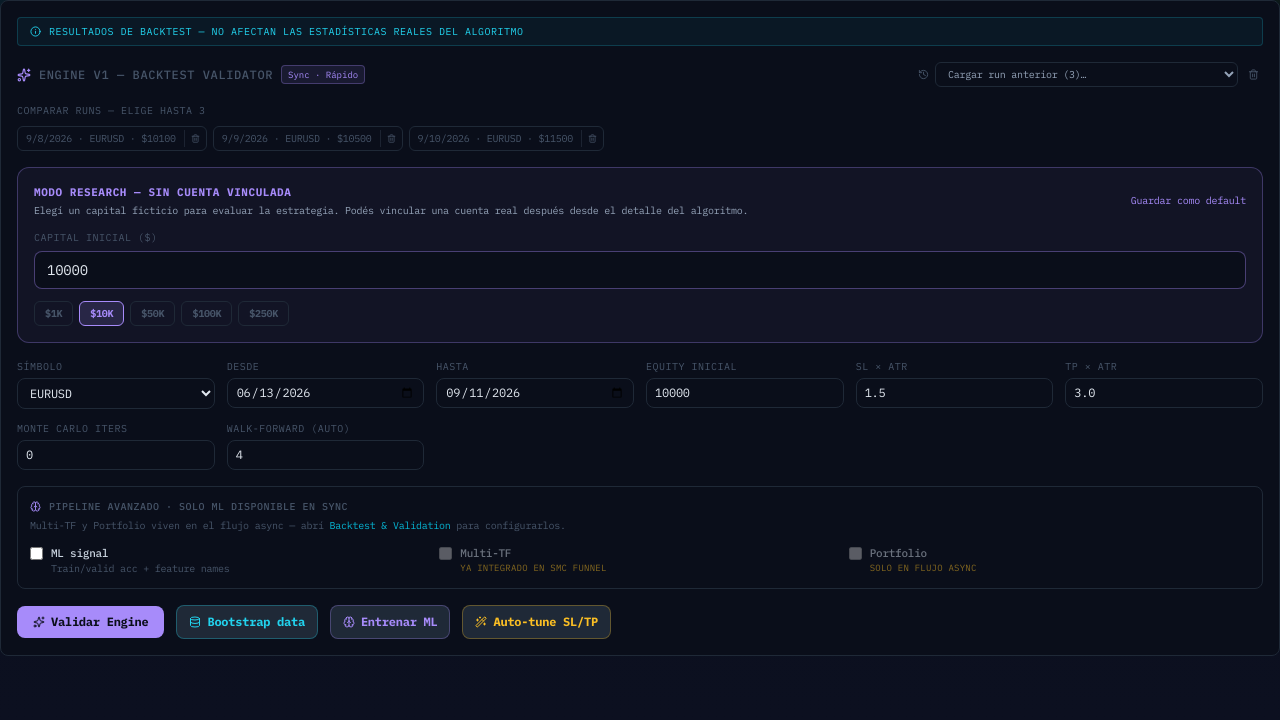
Test case: EngineBacktestPanel — Compare runs (Mejora #5) › winner highlight (◄) finds the best metric across 3 runs
Expected: the text "Comparar runs — elige hasta 3" is shown, [17,104,206,117]
Click the button "9/8/2026 · EURUSD · $10100".
click(101, 138)  # box [18,127,184,150]
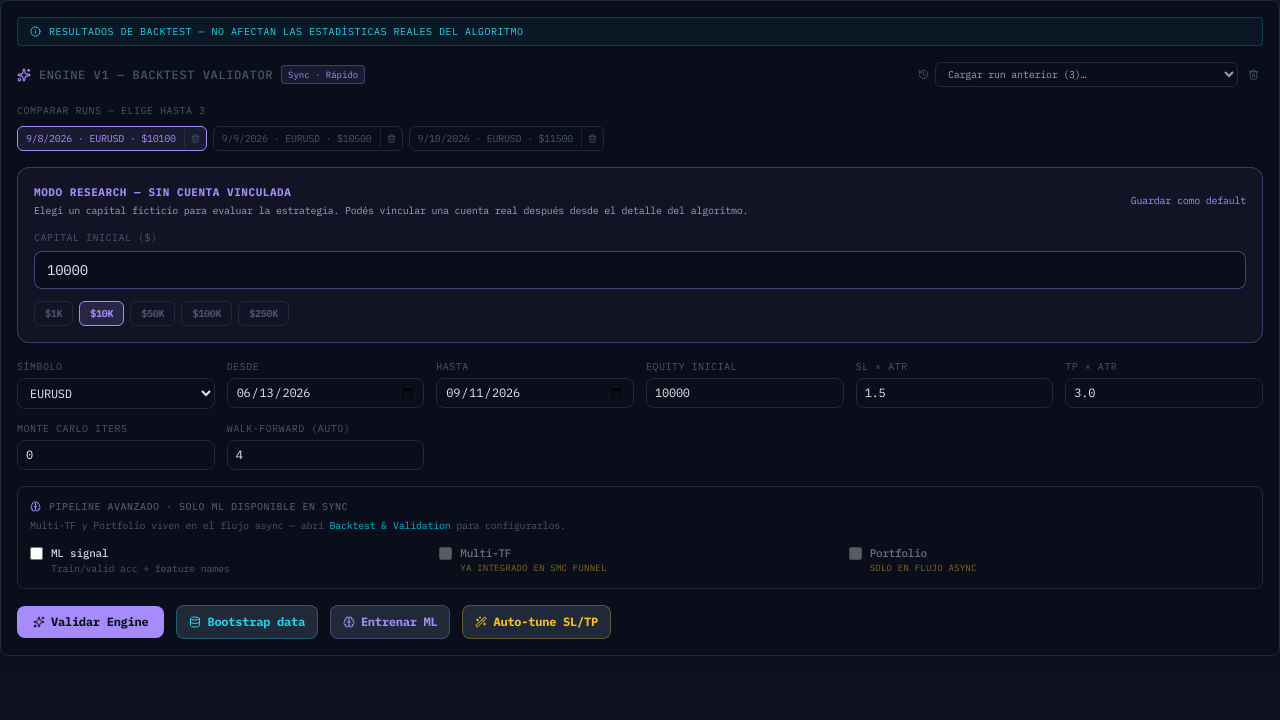
Click the button "9/9/2026 · EURUSD · $10500".
click(297, 138)  # box [214,127,380,150]
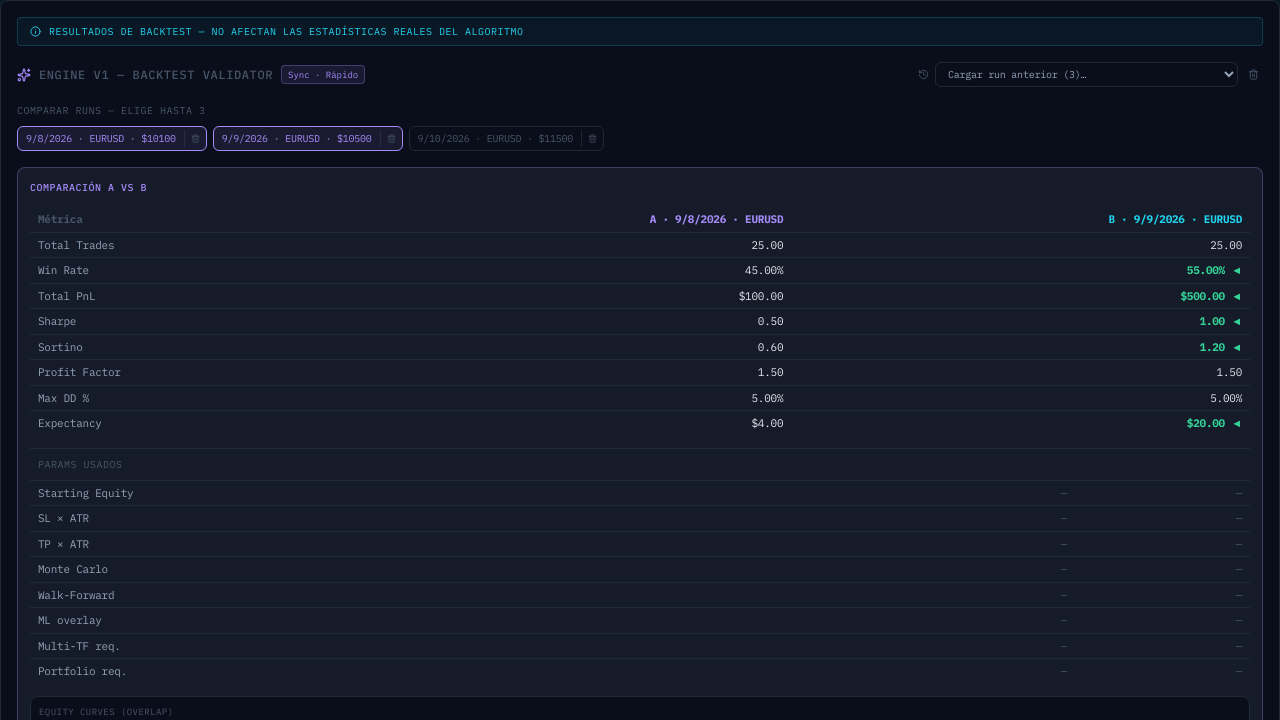
Click the button "9/10/2026 · EURUSD · $11500".
click(495, 138)  # box [410,127,581,150]
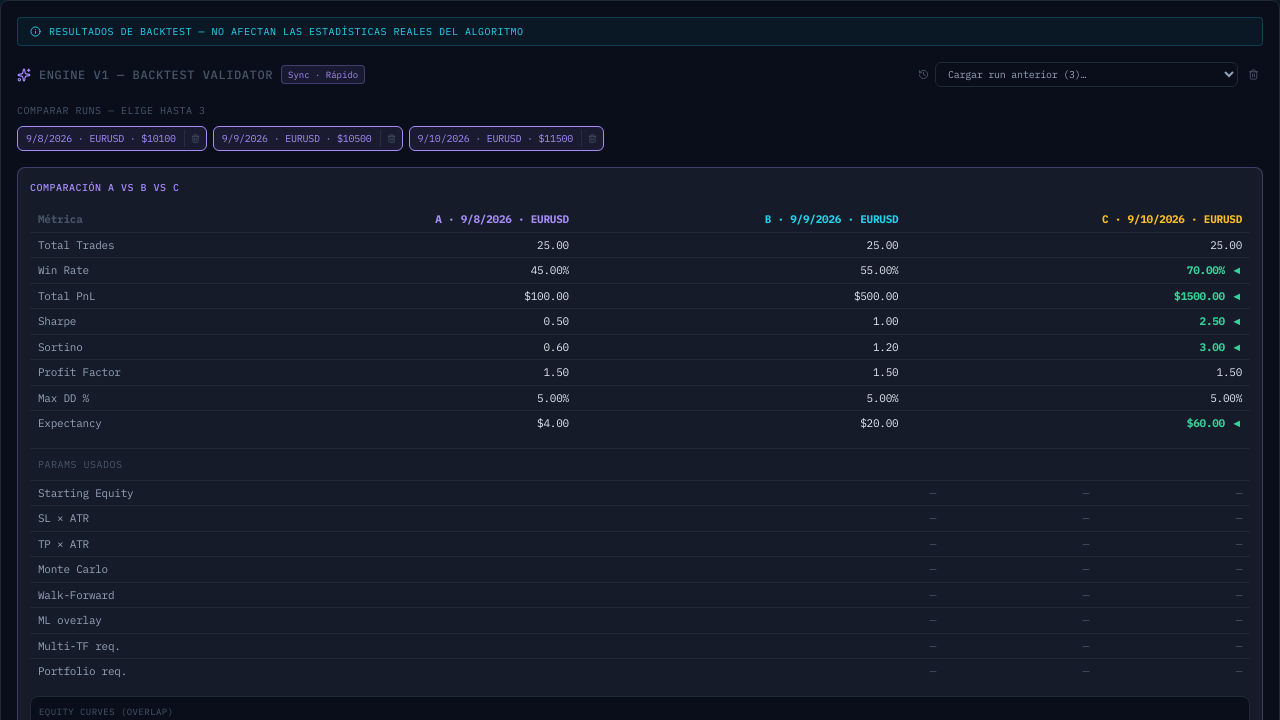
Result: the text "Comparación A vs B vs C" is shown at [30,181,180,194]
Result: the text "70.00% ◄" is shown at [906,258,1250,283]
